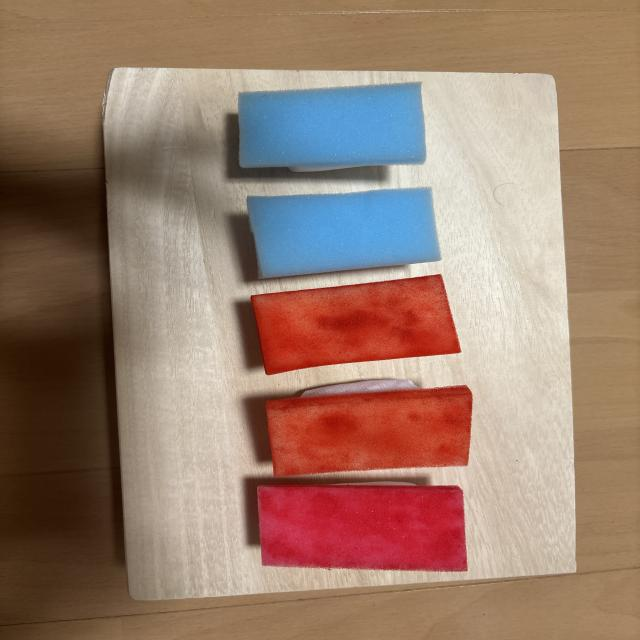ika: (249, 188, 440, 277), (239, 83, 425, 172)
maguro: (258, 483, 467, 571)
salmon: (251, 275, 460, 374), (266, 380, 472, 476)
